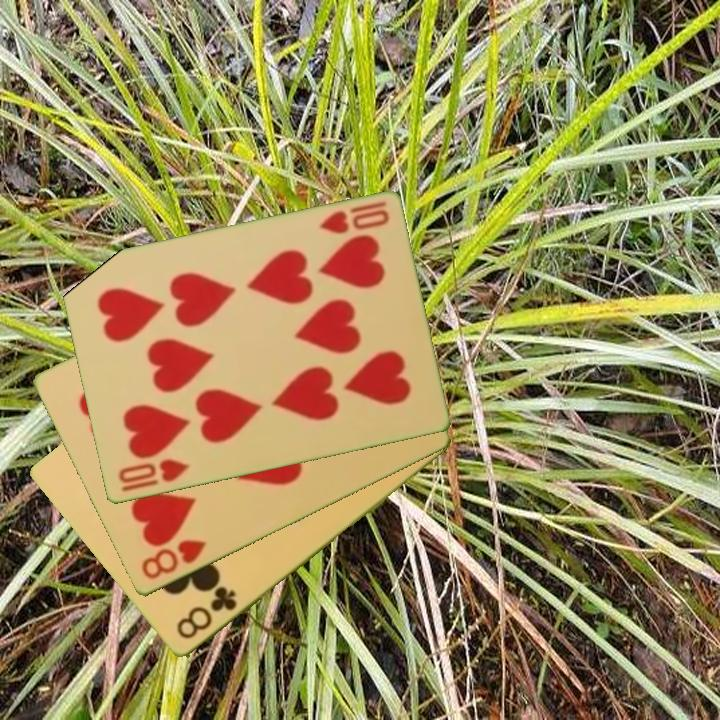10h: (114, 455, 193, 495), (316, 198, 392, 238)
8c: (172, 583, 240, 643)
8h: (137, 536, 209, 583)
